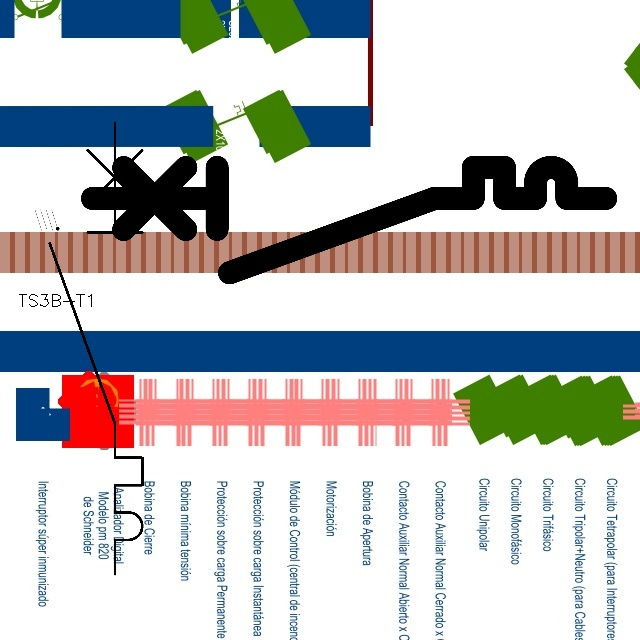interruptor_termomagnetico: (79, 154, 619, 286), (38, 111, 154, 586)
